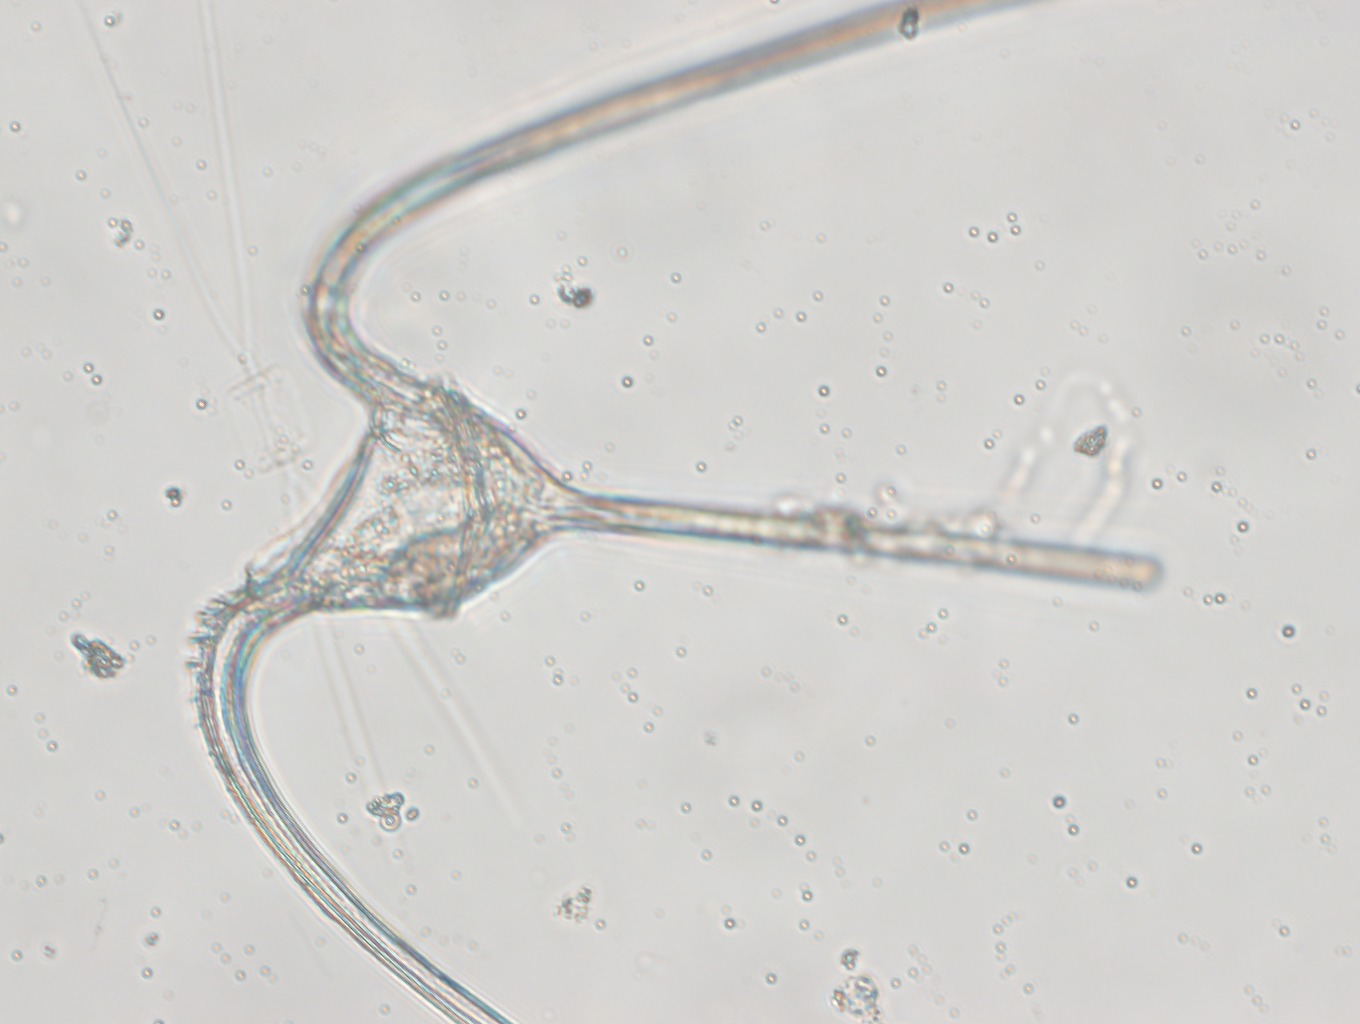ceratium trichoceros: (185, 1, 1162, 1024)
chaetoceros: (67, 2, 525, 847)
